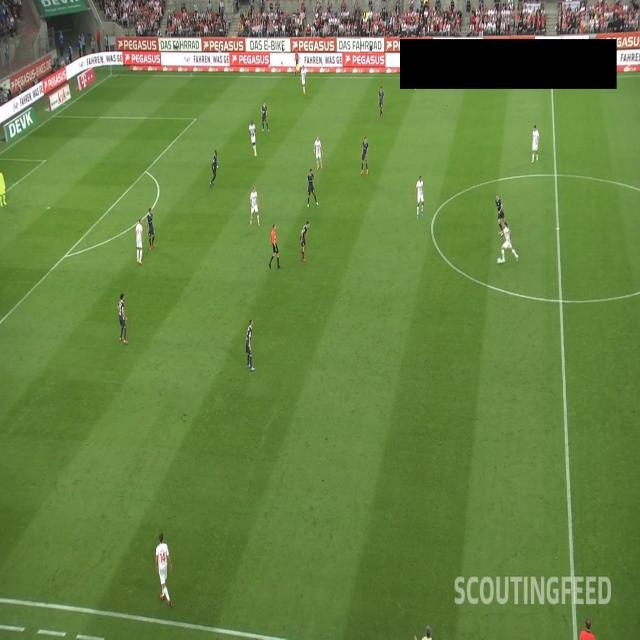ball: (497, 257, 502, 265)
